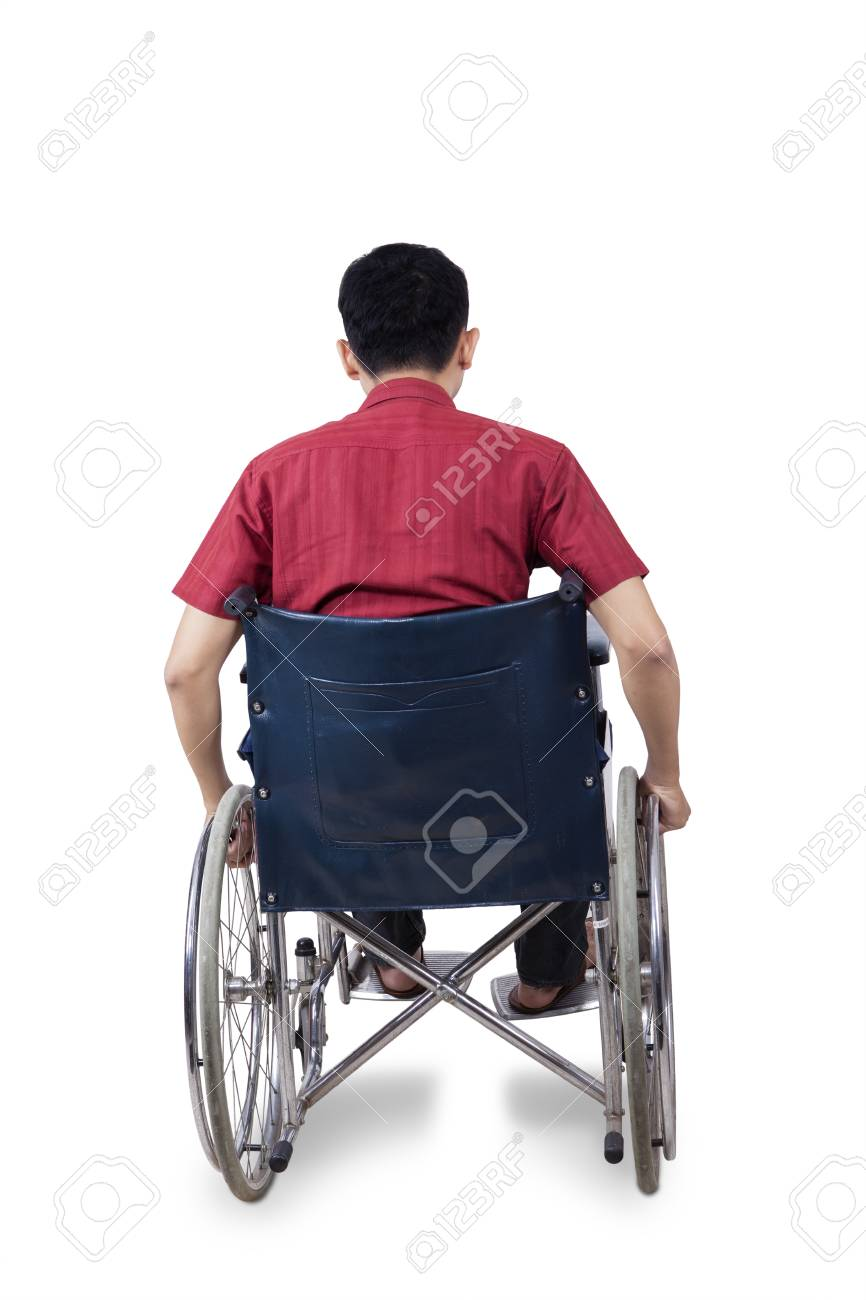wheelchair: (162, 243, 689, 1204)
